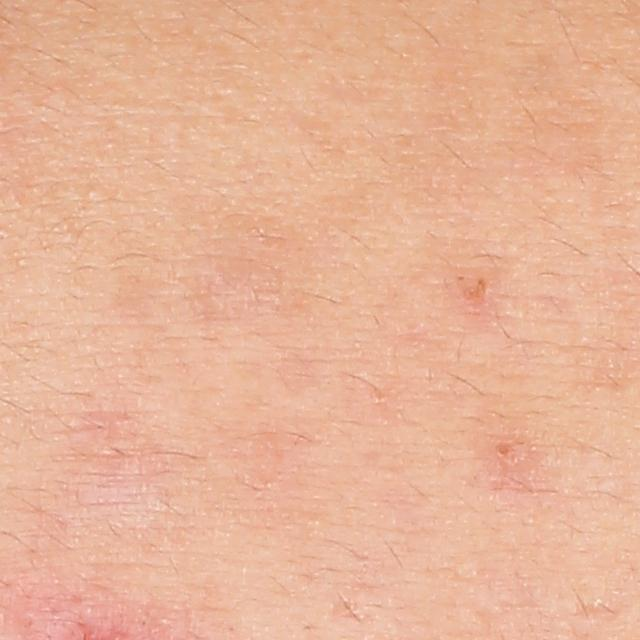papule: (489, 439, 522, 473)
